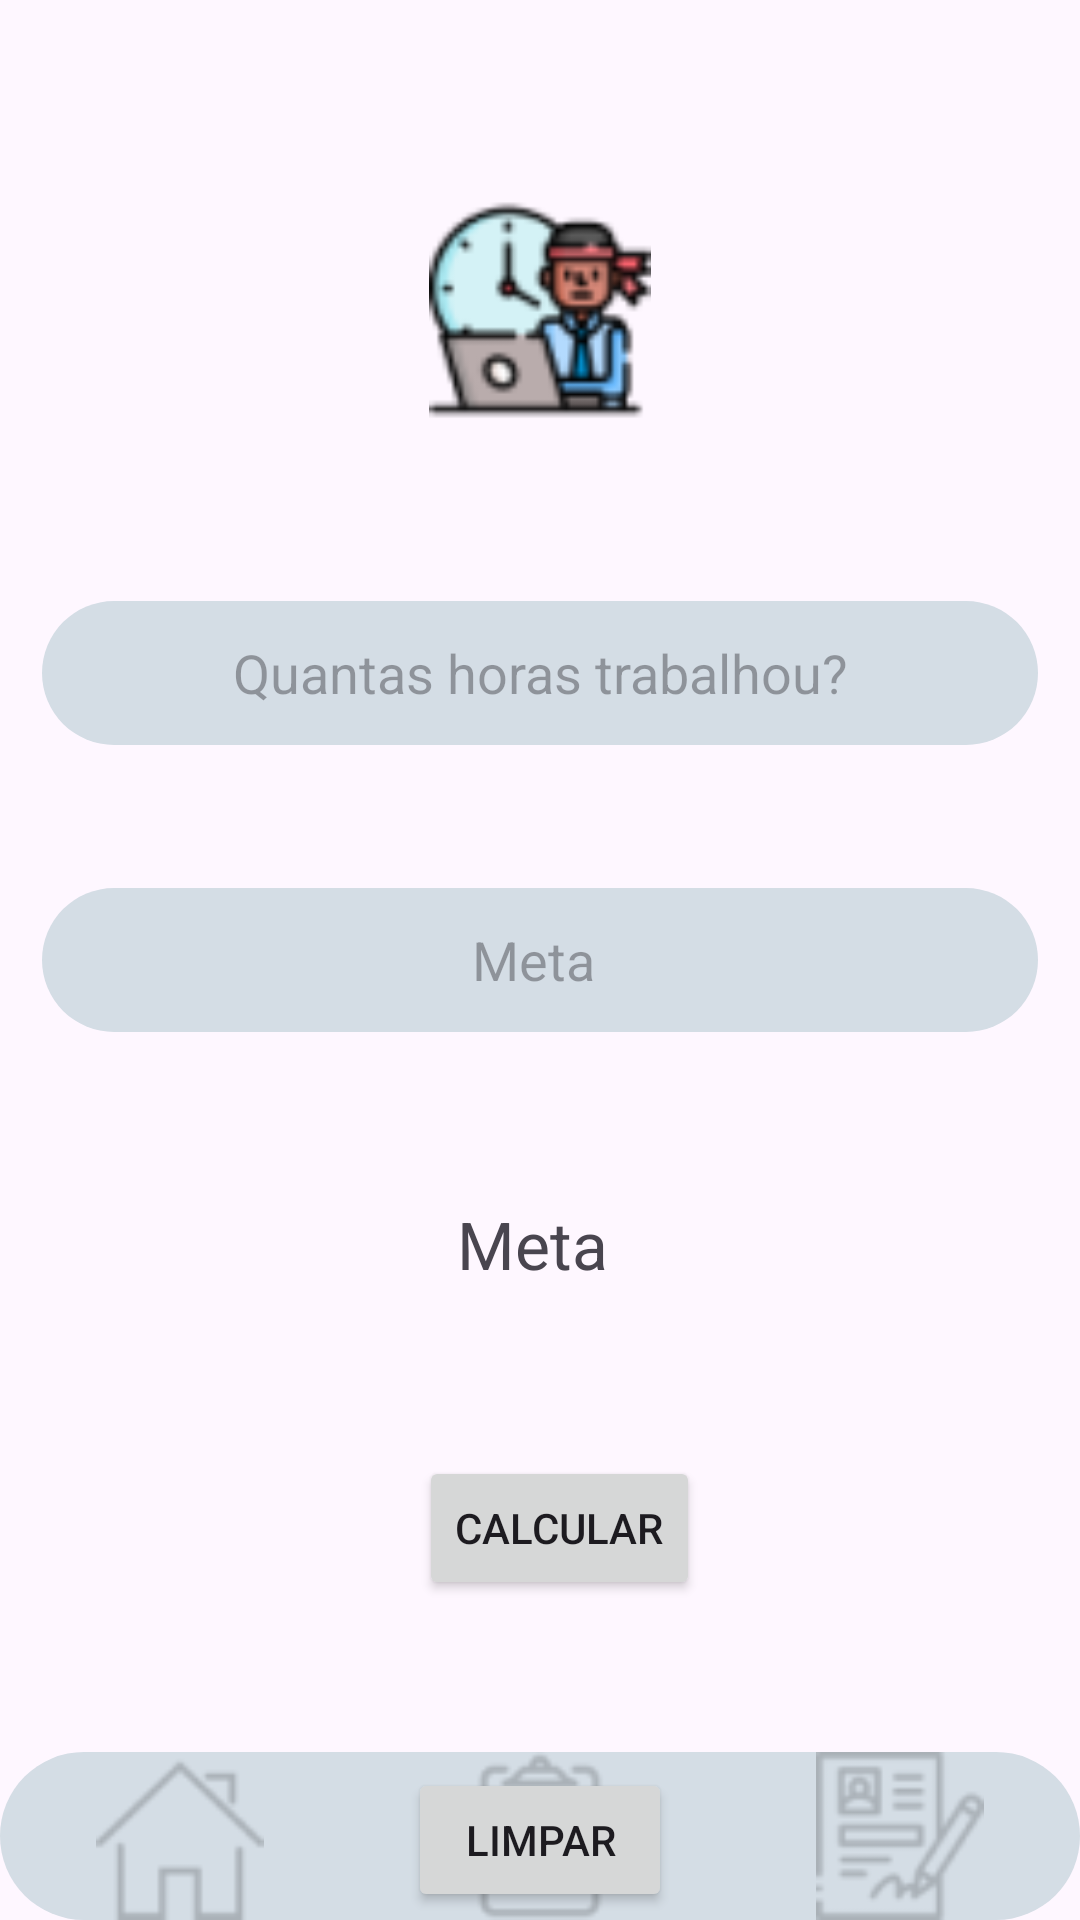

Where icons sit on this 1080 x 1920 app screen, as (x1, y1, x2, y2):
hardwork: (429, 203, 651, 417)
Início: (0, 1752, 360, 1920)
Perfil: (720, 1752, 1080, 1920)
